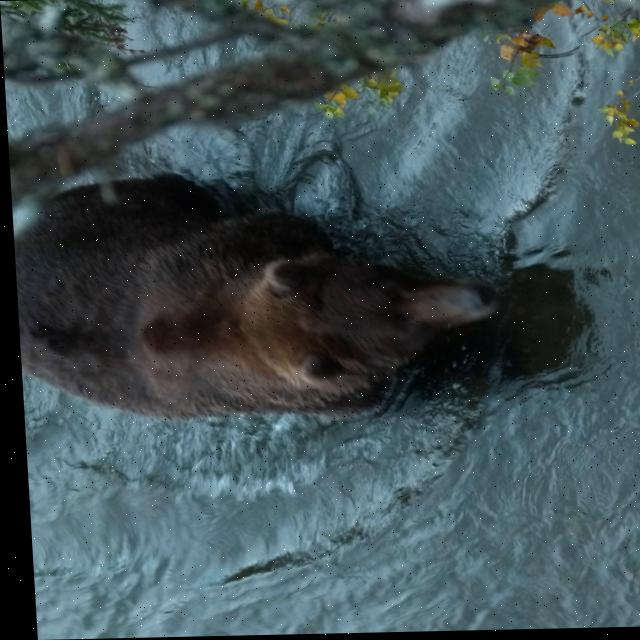bear face: (9, 177, 500, 417)
